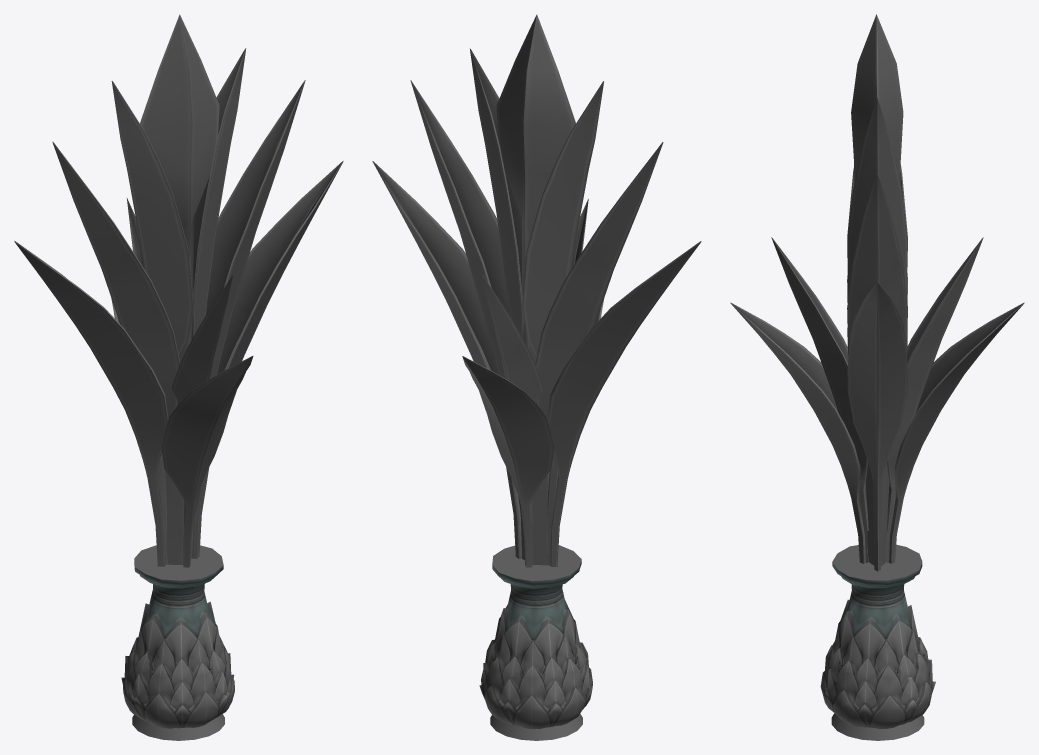
The model's file is Sculpture_Tree_C.obj.
3 renders of one model, left to right at view 1: azimuth 30°, elevation 25°; view 2: azimuth 150°, elevation 25°; view 3: azimuth 270°, elevation 25°, orthographic.
Parts seen in each view (by area): view 1: Sculpture_Tree_C; view 2: Sculpture_Tree_C; view 3: Sculpture_Tree_C.
Part boxes in pixels (left/top/right/bottom): Sculpture_Tree_C: left=14, top=14, right=343, bottom=740; Sculpture_Tree_C: left=372, top=14, right=701, bottom=740; Sculpture_Tree_C: left=730, top=14, right=1024, bottom=740.
Bounding box in the file's own units: 447 × 916 × 346.
1 material, 1 textured.
